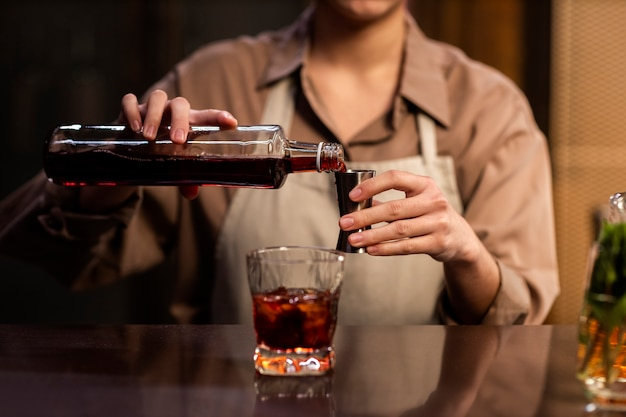alcohol: (42, 122, 348, 188), (244, 247, 346, 378)
